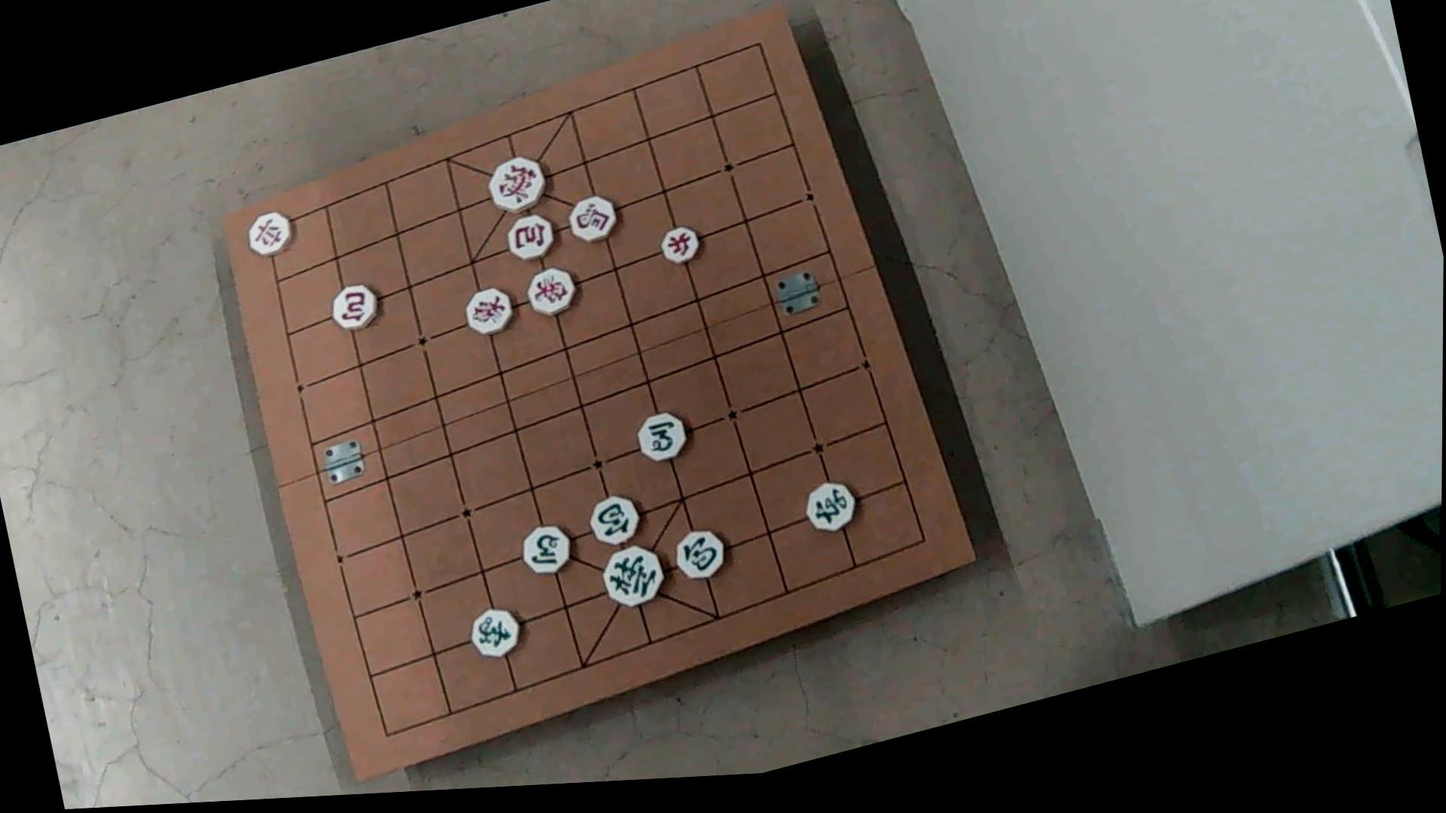cha_green: (801, 475, 859, 535)
cha_red: (243, 206, 294, 258)
jol_red: (657, 224, 701, 268)
ma_green: (516, 518, 575, 579), (633, 407, 691, 465)
ma_red: (566, 190, 621, 245)
po_green: (670, 526, 727, 586), (585, 491, 641, 550)
po_red: (505, 209, 558, 263), (330, 280, 383, 333)
sang_green: (467, 601, 524, 661)
sang_red: (523, 265, 578, 320), (460, 283, 514, 339)
wang_green: (598, 540, 667, 613)
wang_red: (484, 151, 550, 217)
